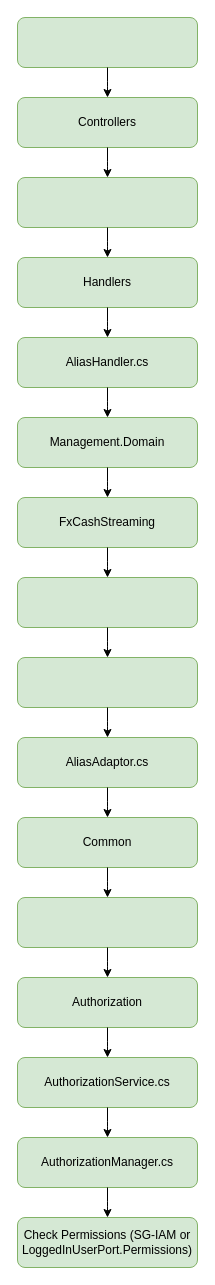
The diagram is 215 pixels wide and 1285 high, and some of its shapes have lost their labels. The centre of each missing label's shape, as x and y in pixels:
"Adaptors" goes at [107,682].
"AliasController.cs" goes at [107,202].
"Inputs" goes at [107,602].
"Management.API" goes at [107,42].
"Services" goes at [107,922].
